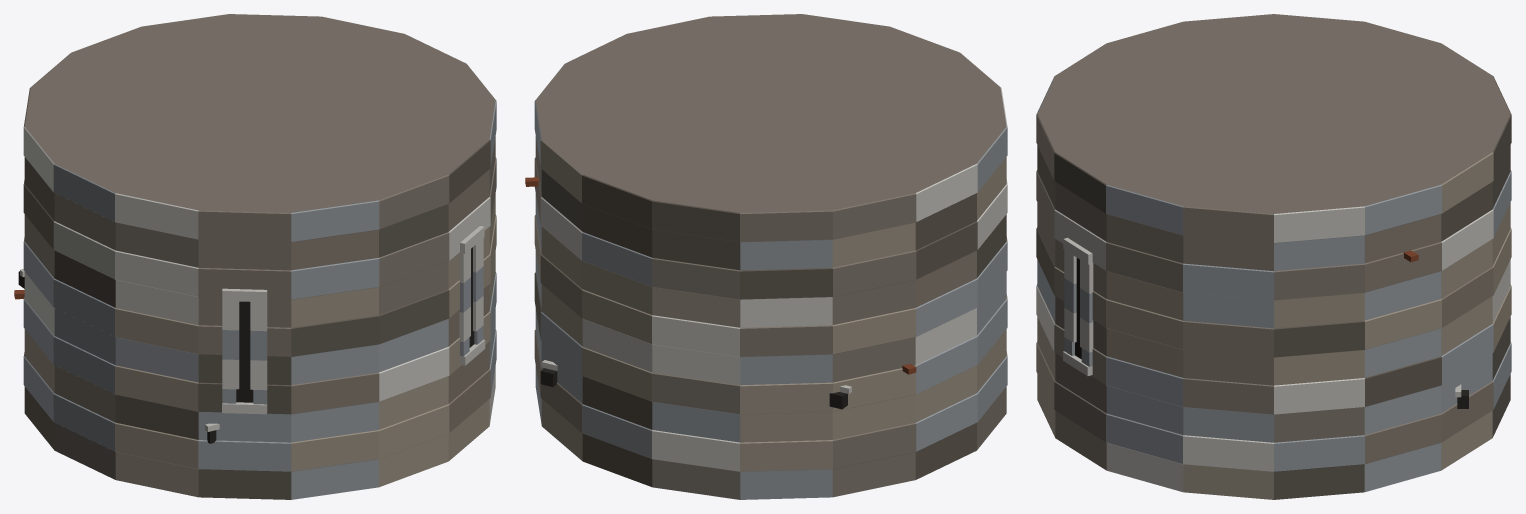
The model's file is mdvl_castle_tower_round_mid_01.glb.
3 views of the same model, side by side, from view 1: azimuth 30°, elevation 25°; view 2: azimuth 150°, elevation 25°; view 3: azimuth 270°, elevation 25° (orthographic).
Visible parts, largest first — view 1: mdvl_castle_tower_round_mid_01; view 2: mdvl_castle_tower_round_mid_01; view 3: mdvl_castle_tower_round_mid_01.
Part boxes in pixels (<box>): mdvl_castle_tower_round_mid_01: <box>14,14,496,499</box>; mdvl_castle_tower_round_mid_01: <box>525,14,1007,499</box>; mdvl_castle_tower_round_mid_01: <box>1036,14,1511,499</box>.
Bounding box in the file's own units: 3.62 × 2.4 × 3.62.
Materials: 1 (1 with a texture image).
